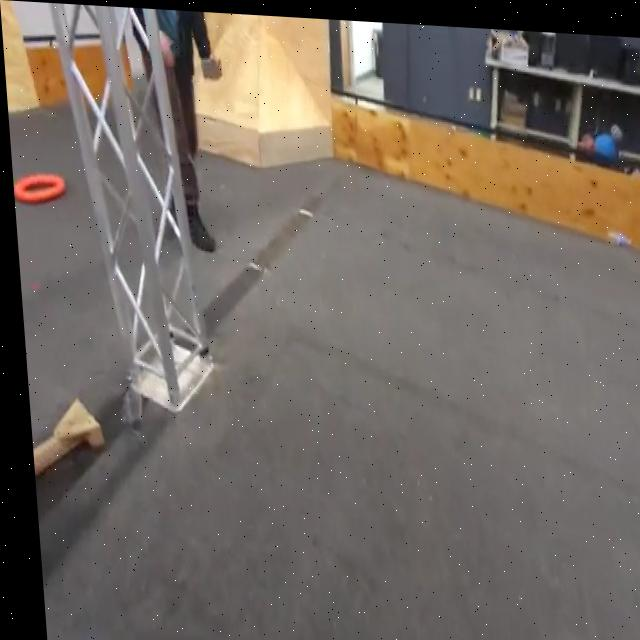note: (10, 167, 66, 205)
